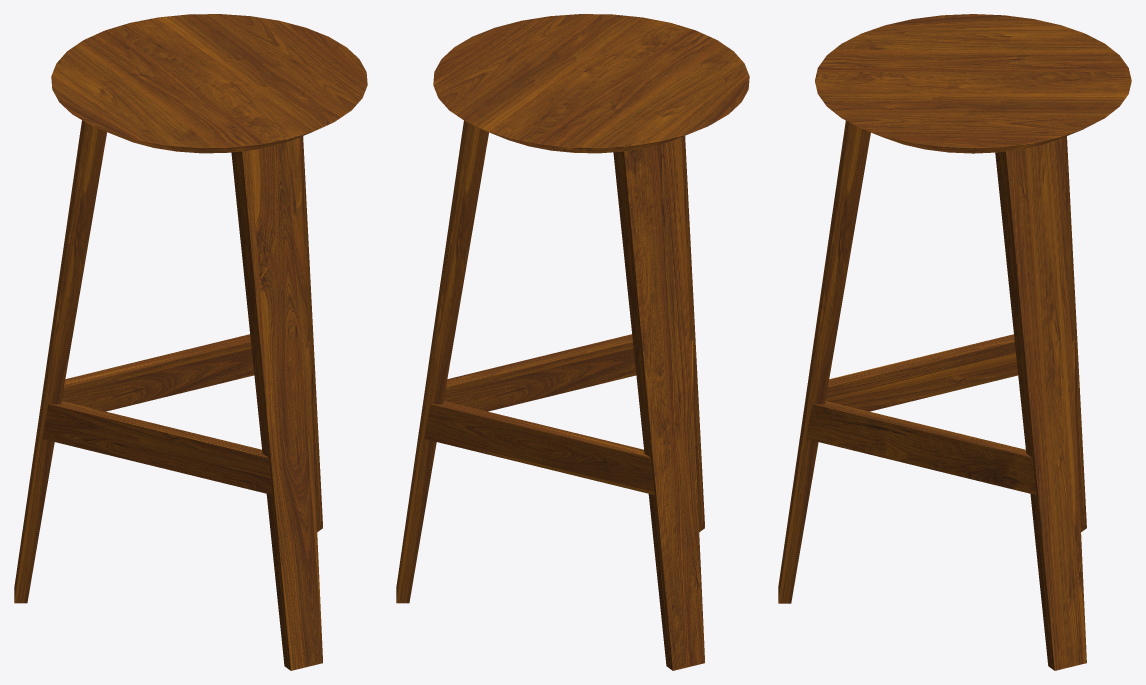
File: High-Baack-Stool.glb
3 renders of one model, left to right at view 1: azimuth 30°, elevation 25°; view 2: azimuth 150°, elevation 25°; view 3: azimuth 270°, elevation 25°, orthographic.
Parts seen in each view (by area): view 1: Cylinder, Cube.001, Cube.003, Cube.004, Cube.006, Cube.002; view 2: Cylinder, Cube.003, Cube.002, Cube.006, Cube.005, Cube.001; view 3: Cylinder, Cube.002, Cube.001, Cube.005, Cube.004, Cube.003.
Boxes of the visible parts, x1,y1,x2,y2 form: Cylinder: (51,14,367,153); Cube.001: (231,137,322,670); Cube.003: (14,120,106,603); Cube.004: (42,401,272,494); Cube.006: (61,334,254,411); Cube.002: (299,136,322,531); Cylinder: (433,14,749,153); Cube.003: (613,137,704,670); Cube.002: (396,120,488,603); Cube.006: (424,401,654,494); Cube.005: (443,334,636,411); Cube.001: (681,136,704,531); Cylinder: (815,14,1131,153); Cube.002: (995,137,1086,670); Cube.001: (778,120,870,603); Cube.005: (806,401,1036,495); Cube.004: (825,334,1017,411); Cube.003: (1063,136,1086,531).
Bounding box in the file's own units: 0.3937 × 0.6269 × 0.3905.
Materials: 1 (1 with a texture image).
